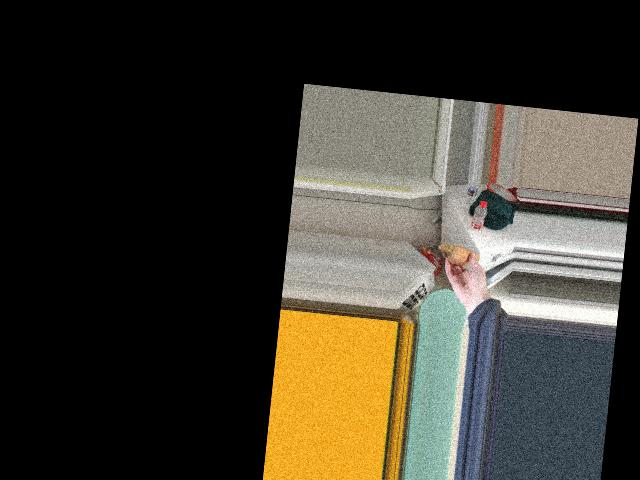sweet_potato: (445, 244, 478, 265)
